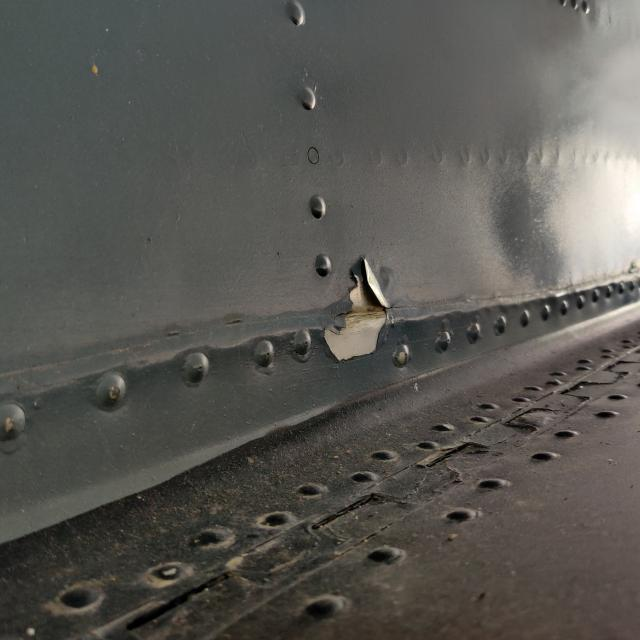Paint-off: (324, 257, 391, 361)
